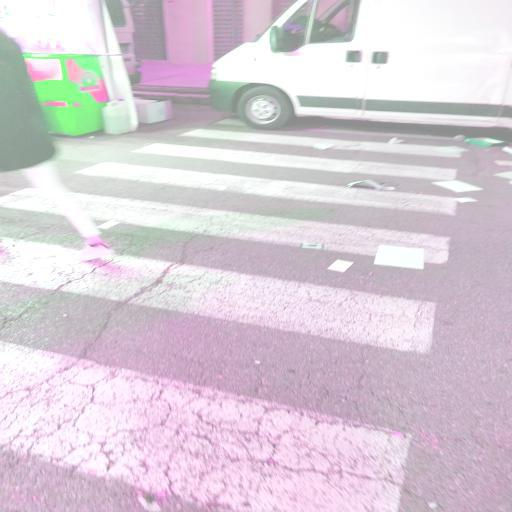crosswalk: (1, 158, 478, 273)
